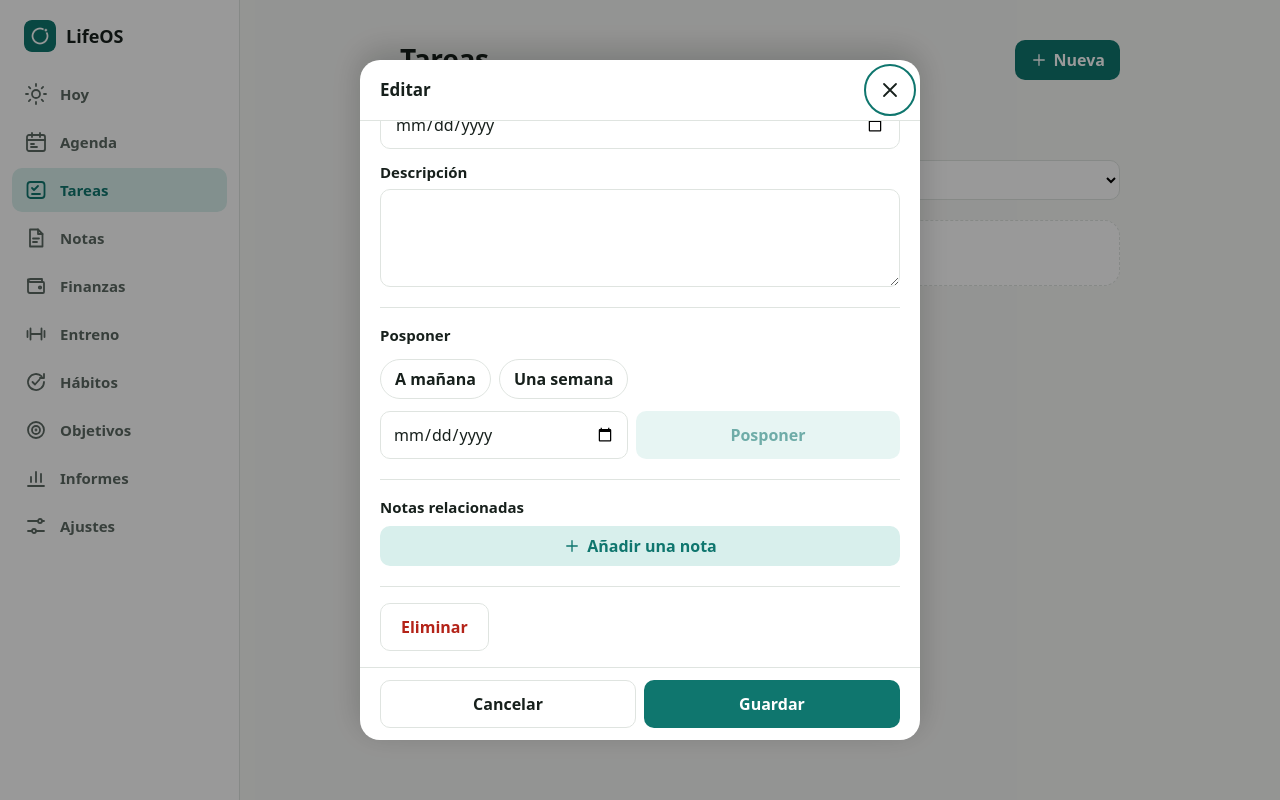
editor de tareas › pide confirmación antes de eliminar
(page scrolled)
Click the button "Eliminar" at coordinates (434, 627), box [380,603,489,651]
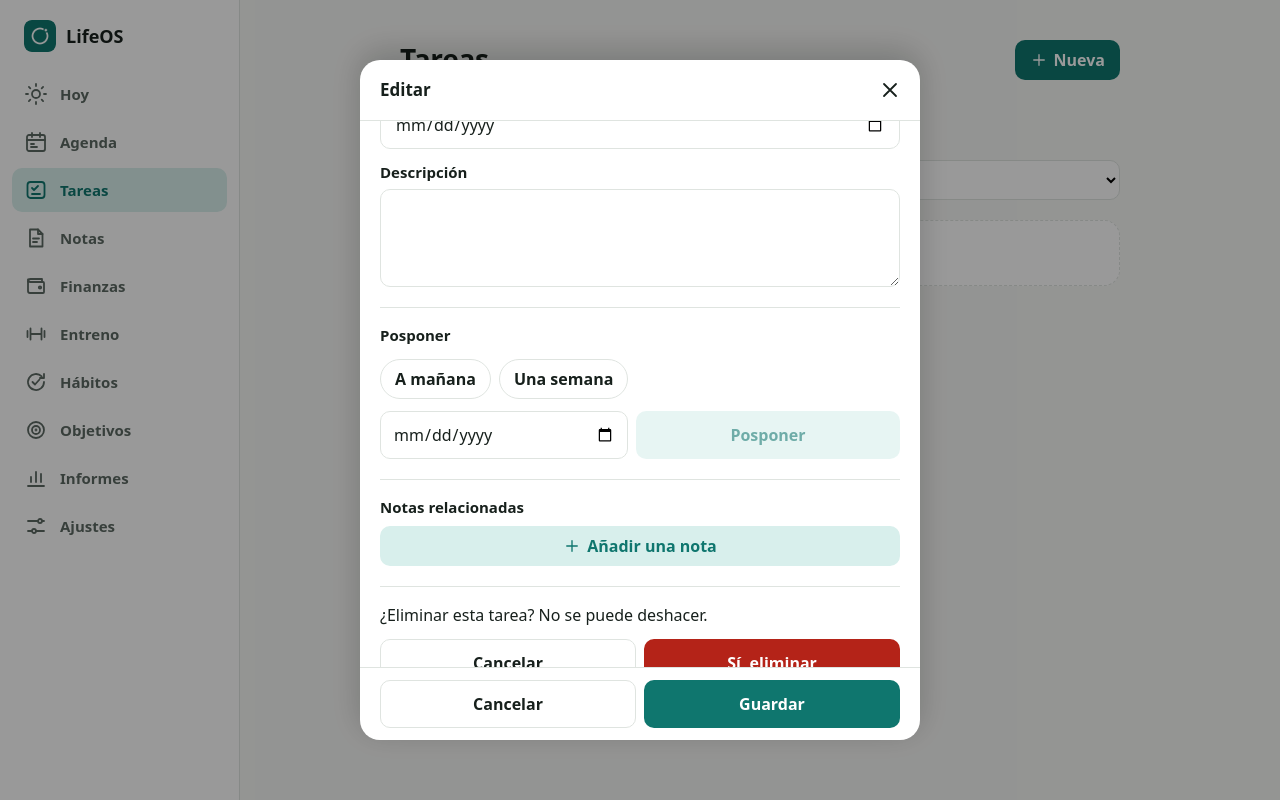
Expected: the text "¿Eliminar esta tarea? No se puede deshacer." is shown, [380,604,708,626]
Click the button "Sí, eliminar" at coordinates (772, 663), box [644,639,900,687]
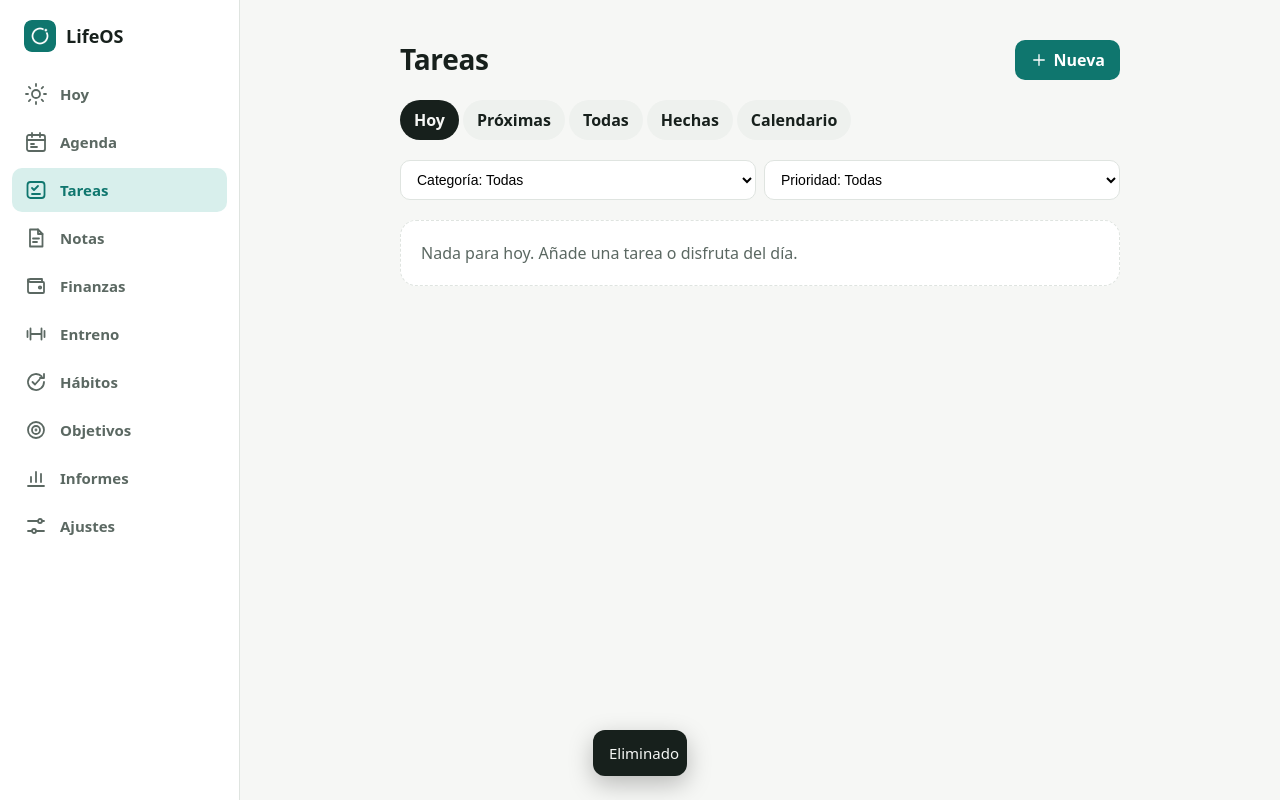
Expected: the text "Eliminado" is shown, [609,742,679,764]
